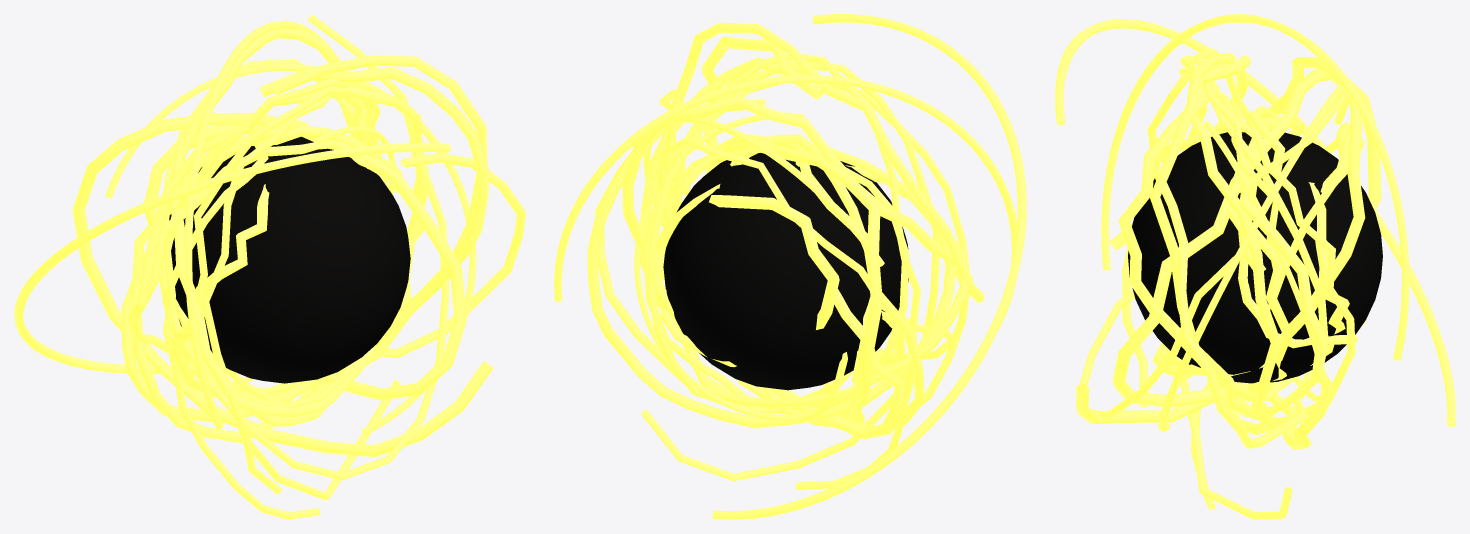
The model's file is ev_v3_core_vortex.glb.
3 renders of one model, left to right at view 1: azimuth 30°, elevation 25°; view 2: azimuth 150°, elevation 25°; view 3: azimuth 270°, elevation 25°, orthographic. The views are drawn at different scales.
Parts seen in each view (by area): view 1: core_corona, event_horizon; view 2: core_corona, event_horizon; view 3: core_corona, event_horizon.
Part boxes in pixels (left/top/right/bottom): core_corona: left=14, top=14, right=525, bottom=519; event_horizon: left=169, top=136, right=410, bottom=383; core_corona: left=554, top=14, right=1026, bottom=519; event_horizon: left=663, top=153, right=908, bottom=390; core_corona: left=1055, top=14, right=1455, bottom=519; event_horizon: left=1128, top=132, right=1382, bottom=383.
Size of the model in its own units: 197 by 189 by 148.
